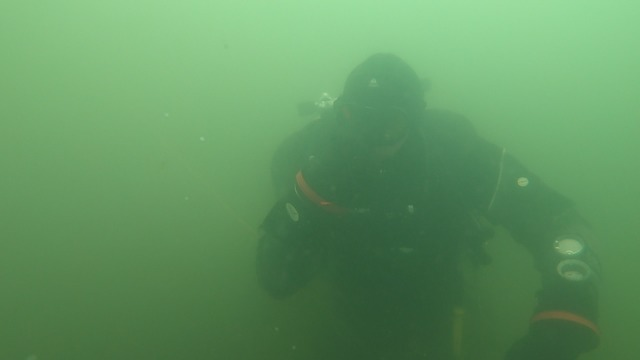Diver: (215, 26, 616, 359)
Head: (329, 37, 442, 190)
